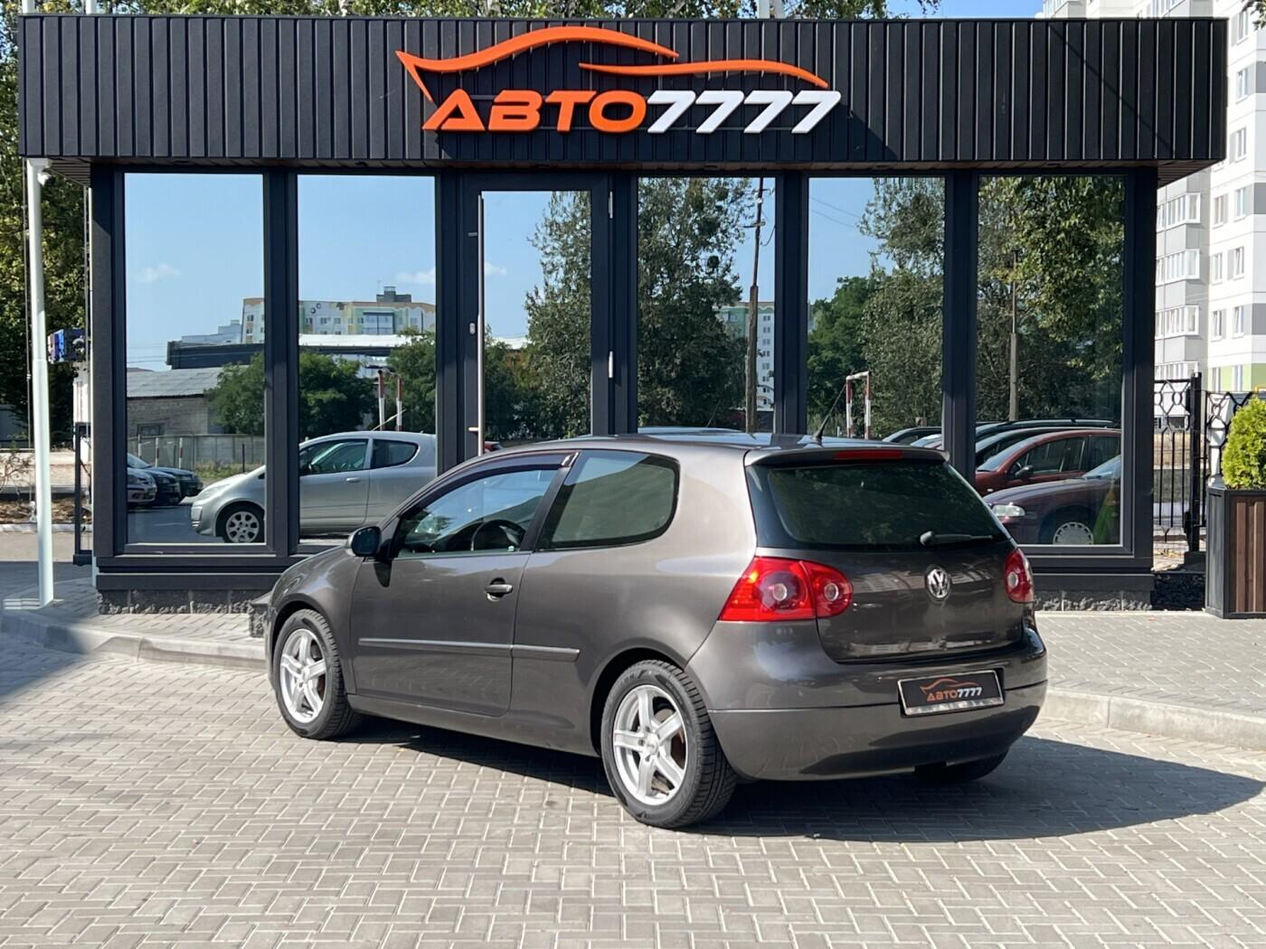Golf_2003-2009: (250, 427, 1053, 830)
